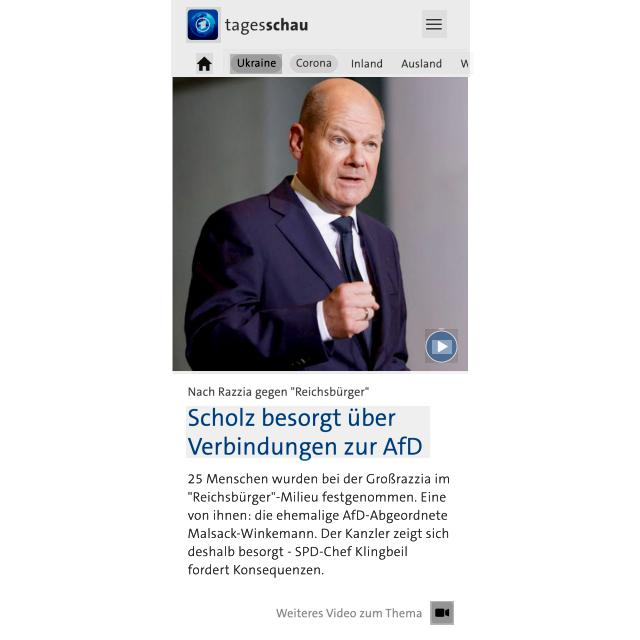CheckBox: (425, 330, 458, 363)
Input field: (180, 468, 455, 580)
bag: (171, 0, 470, 77)
carousel: (430, 601, 454, 625), (424, 13, 444, 34), (196, 53, 213, 74), (432, 340, 452, 354)
copy: (172, 78, 468, 374)
date picker: (186, 7, 221, 43)
decoration: (227, 52, 474, 74), (422, 10, 447, 38)
illustration: (230, 54, 282, 74), (291, 54, 338, 72)
image: (187, 406, 430, 458)
